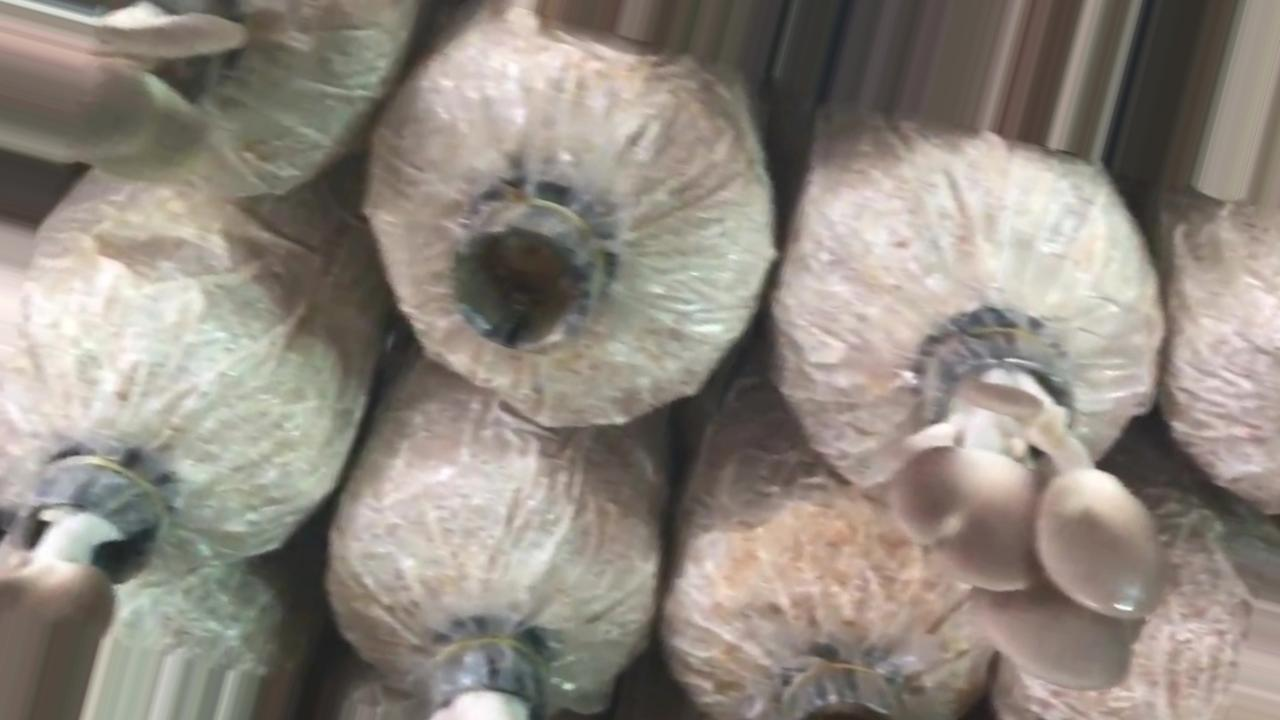nam: (893, 330, 1161, 699), (1, 435, 159, 720), (1, 1, 239, 185)
